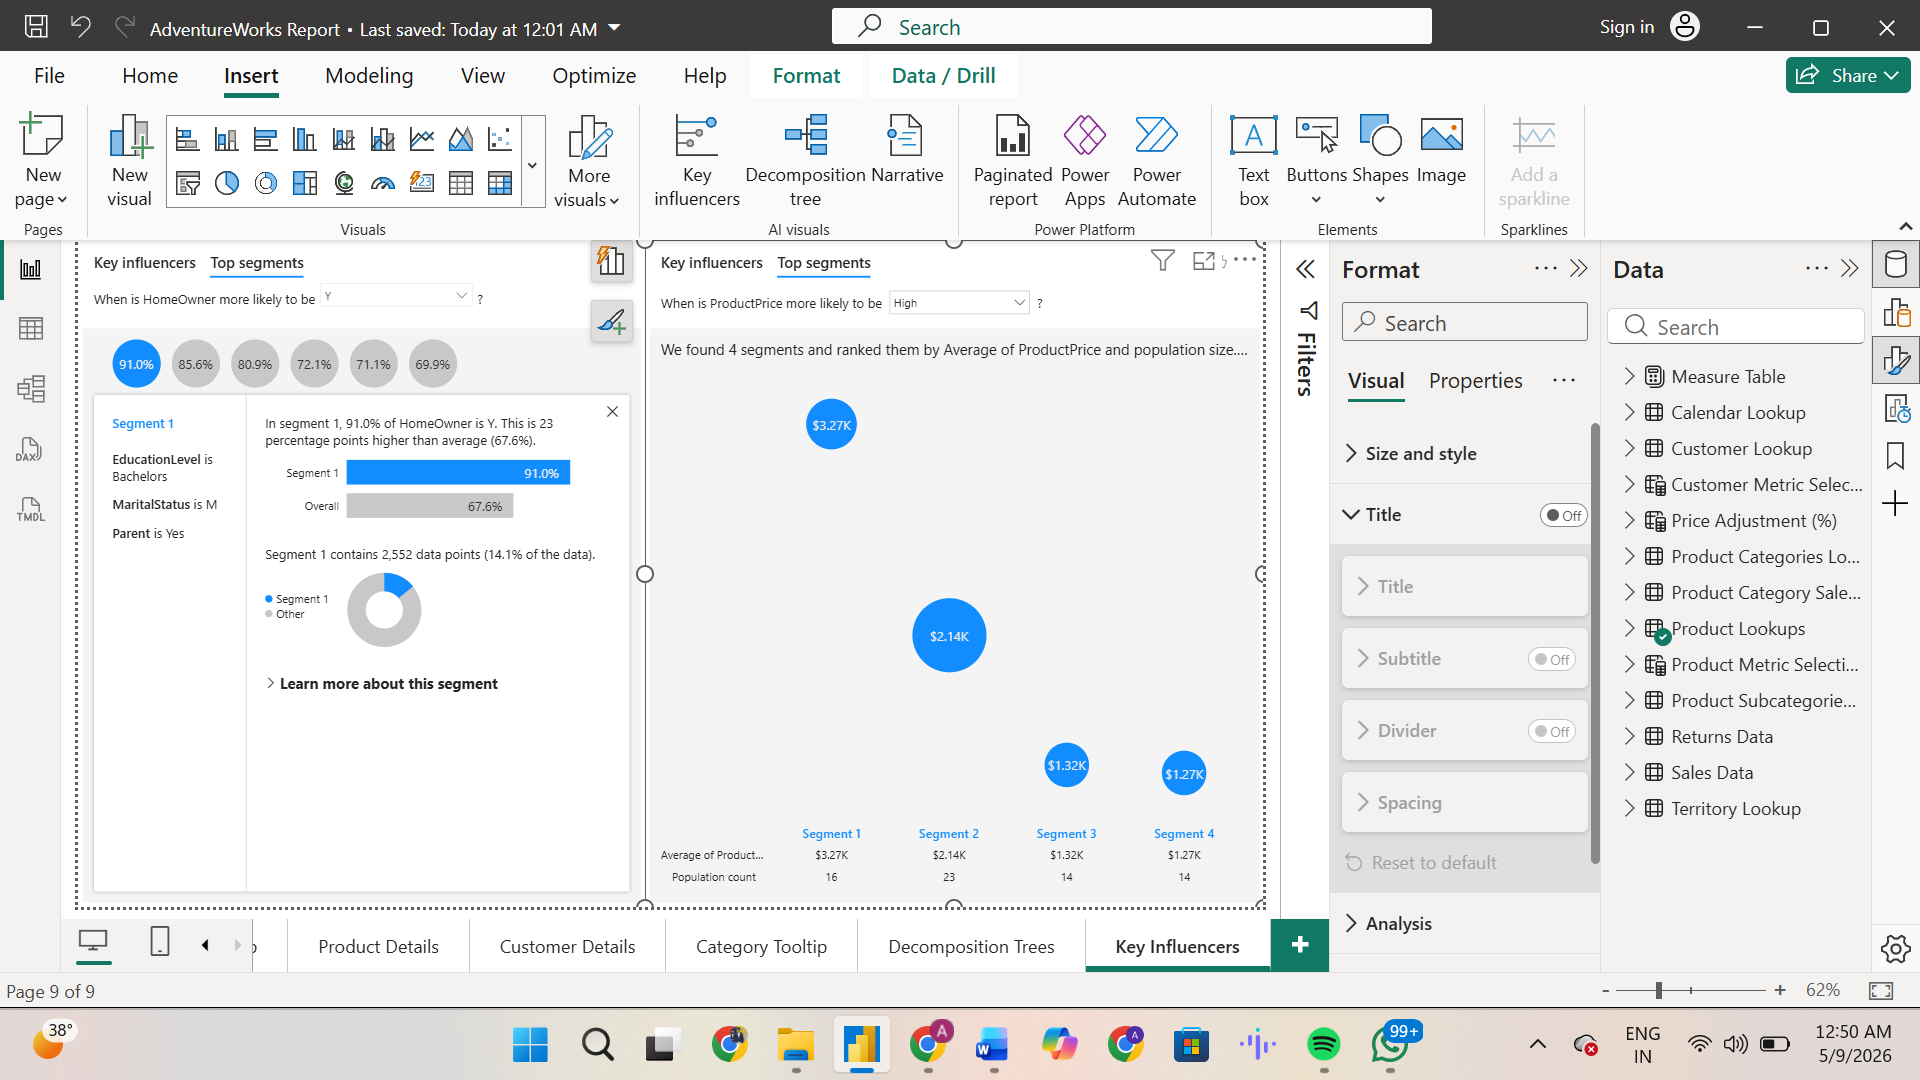

This screenshot's page, from the dashboard's own definition file:
{"tool":"powerbi","page":{"name":"Key Influencers","canvas":[1280,720],"ordinal":8},"visuals":[{"type":"keyDriversVisual","fields":{"Target":["Customer Lookup.HomeOwner"],"ExplainBy":["Customer Lookup.AnnualIncome","Customer Lookup.Occupation","Customer Lookup.MaritalStatus","Customer Lookup.EducationLevel","Customer Lookup.Parent"]},"box":[0,0,612,720],"z":0},{"type":"keyDriversVisual","fields":{"Target":["Product Lookups.ProductPrice"],"ExplainBy":["Sum(Product Lookups.ProductCost)"]},"box":[612.5,0,667.5,720],"z":1000}]}

Visuals, with their boxes on the page's 1280x720 design canvas (x1, y1, x2, y2). These are canvas units, not pixel positions in the 1920x1080 screenshot, which may show the page scaled, cropped or inside an application window:
keyDriversVisual - Customer Lookup.HomeOwner x Customer Lookup.AnnualIncome: [0, 0, 612, 720]
keyDriversVisual - Product Lookups.ProductPrice x Sum(Product Lookups.ProductCost): [612, 0, 1280, 720]
